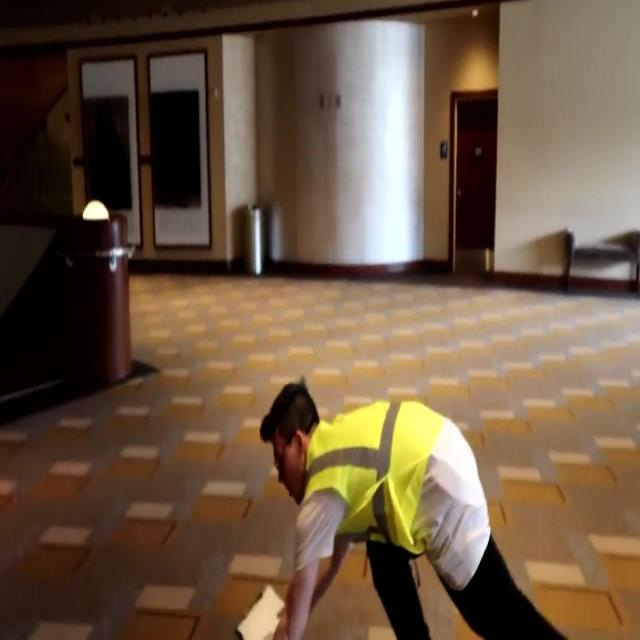Reflective-Jacket: (294, 387, 498, 570)
